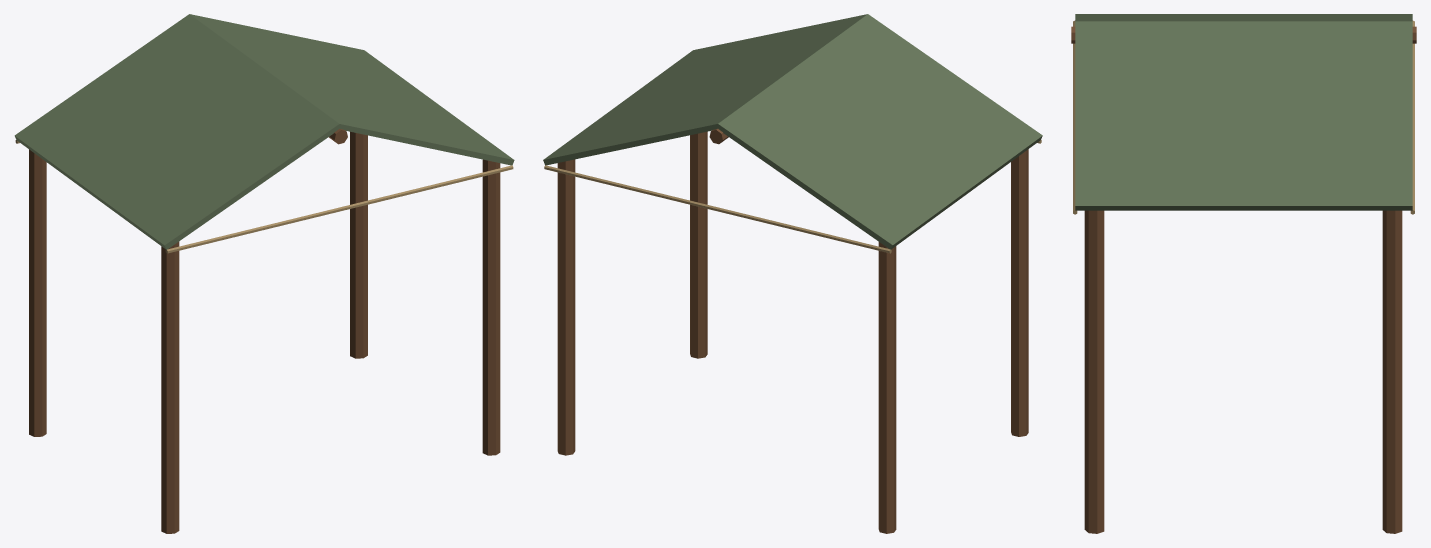
The model's file is tarp.glb.
The picture shows the model from 3 angles, left to right: view 1: azimuth 30°, elevation 25°; view 2: azimuth 150°, elevation 25°; view 3: azimuth 270°, elevation 25°; orthographic projection. The views are drawn at different scales.
Visible parts, largest first — view 1: separate tarp canopy, support pole.002, support pole, support pole.001, support pole.003, edge cord; view 2: separate tarp canopy, support pole.003, support pole.001, support pole, support pole.002, edge cord.001; view 3: separate tarp canopy, support pole.002, support pole.003, edge cord, edge cord.001.
Boxes of the visible parts, x1,y1,x2,y2 form: separate tarp canopy: (14, 14, 514, 249); support pole.002: (482, 159, 500, 455); support pole: (161, 241, 179, 533); support pole.001: (29, 149, 46, 436); support pole.003: (350, 131, 367, 358); edge cord: (165, 165, 513, 253); separate tarp canopy: (543, 14, 1042, 249); support pole.003: (557, 159, 575, 455); support pole.001: (878, 242, 896, 533); support pole: (1011, 149, 1028, 436); support pole.002: (690, 131, 707, 358); edge cord.001: (544, 165, 891, 253); separate tarp canopy: (1075, 14, 1412, 210); support pole.002: (1084, 210, 1104, 533); support pole.003: (1382, 210, 1402, 533); edge cord: (1073, 20, 1077, 214); edge cord.001: (1410, 20, 1414, 214).
Size of the model in its own units: 2.29 by 2.34 by 1.74.
